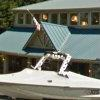Boat: (1, 52, 98, 98)
